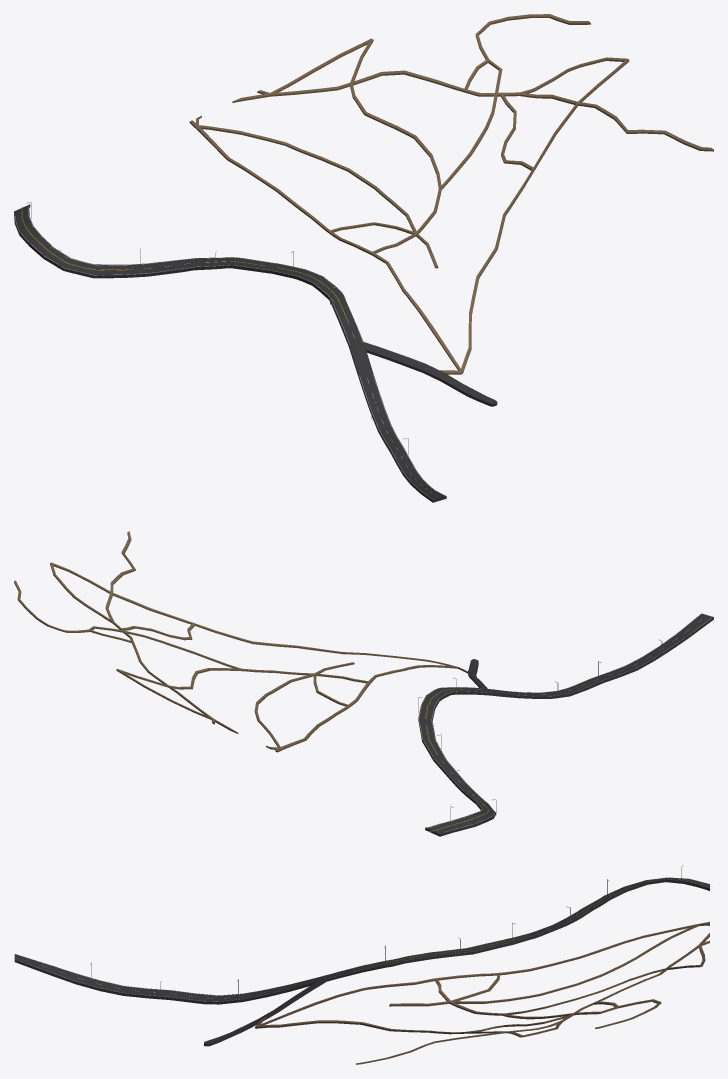
The picture shows the model from 3 angles, top to bottom: view 1: azimuth 30°, elevation 25°; view 2: azimuth 150°, elevation 25°; view 3: azimuth 270°, elevation 25°; orthographic projection. The views are drawn at different scales.
Size of the model in its own units: 252 by 77.1 by 294.
